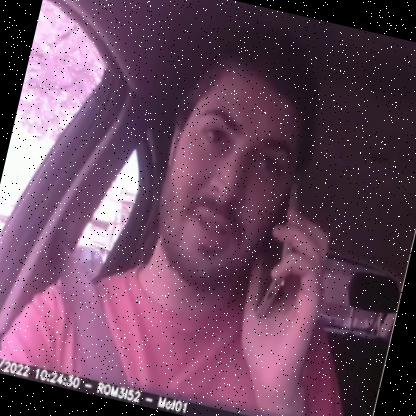phone: (238, 169, 315, 326)
